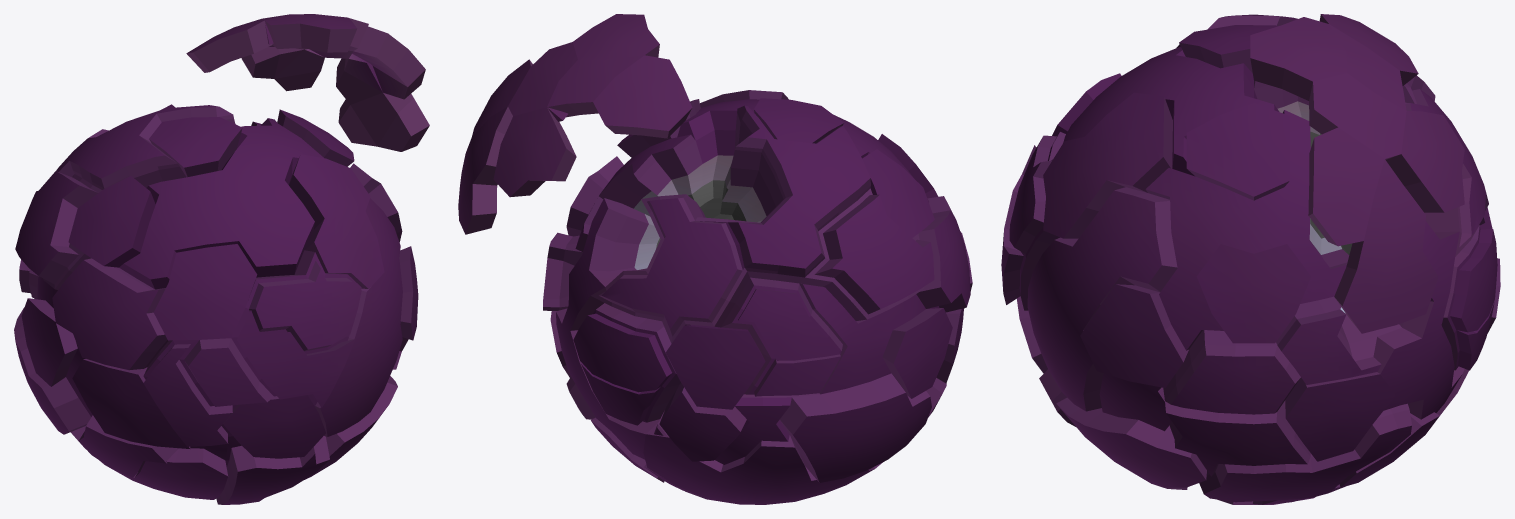
The model's file is Planeta.fbx.
3 views of the same model, side by side, from view 1: azimuth 30°, elevation 25°; view 2: azimuth 150°, elevation 25°; view 3: azimuth 270°, elevation 25° (orthographic). The views are drawn at different scales.
Parts seen in each view (by area): view 1: Planeta, Fragmento07, Fragmento06, Fragmento01, Fragmento05, Fragmento02, Fragmento04; view 2: Planeta, Fragmento02, Fragmento05, Fragmento07, Fragmento01, Fragmento03, Fragmento04, Fragmento06; view 3: Planeta, Fragmento07, Fragmento06, Fragmento01, Fragmento05, Fragmento04, Fragmento03, Fragmento02.
Boxes of the visible parts, x1,y1,x2,y2 form: Planeta: (14, 104, 418, 504); Fragmento07: (336, 54, 429, 151); Fragmento06: (352, 26, 425, 99); Fragmento01: (264, 14, 357, 52); Fragmento05: (241, 47, 324, 91); Fragmento02: (186, 18, 272, 72); Fragmento04: (310, 17, 368, 58); Planeta: (543, 90, 972, 504); Fragmento02: (593, 55, 692, 138); Fragmento05: (493, 107, 576, 197); Fragmento07: (458, 106, 512, 234); Fragmento01: (573, 14, 659, 59); Fragmento03: (547, 55, 643, 117); Fragmento04: (508, 42, 577, 121); Fragmento06: (472, 59, 532, 136); Planeta: (1001, 14, 1500, 504); Fragmento07: (1334, 159, 1438, 333); Fragmento06: (1308, 127, 1384, 246); Fragmento01: (1250, 17, 1346, 100); Fragmento05: (1386, 111, 1464, 212); Fragmento04: (1309, 73, 1406, 159); Fragmento03: (1329, 24, 1406, 110); Fragmento02: (1319, 14, 1418, 85).
Size of the model in its own units: 4647 by 4471 by 3937.
1 material, 1 textured.
